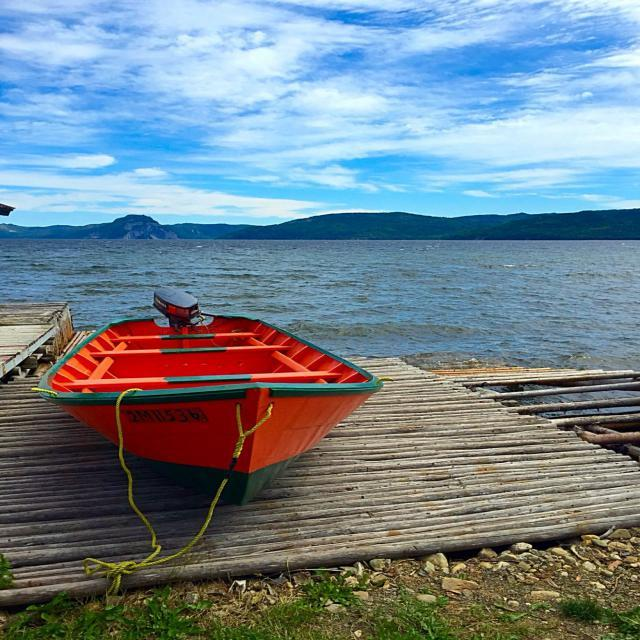ship: (31, 288, 390, 514)
